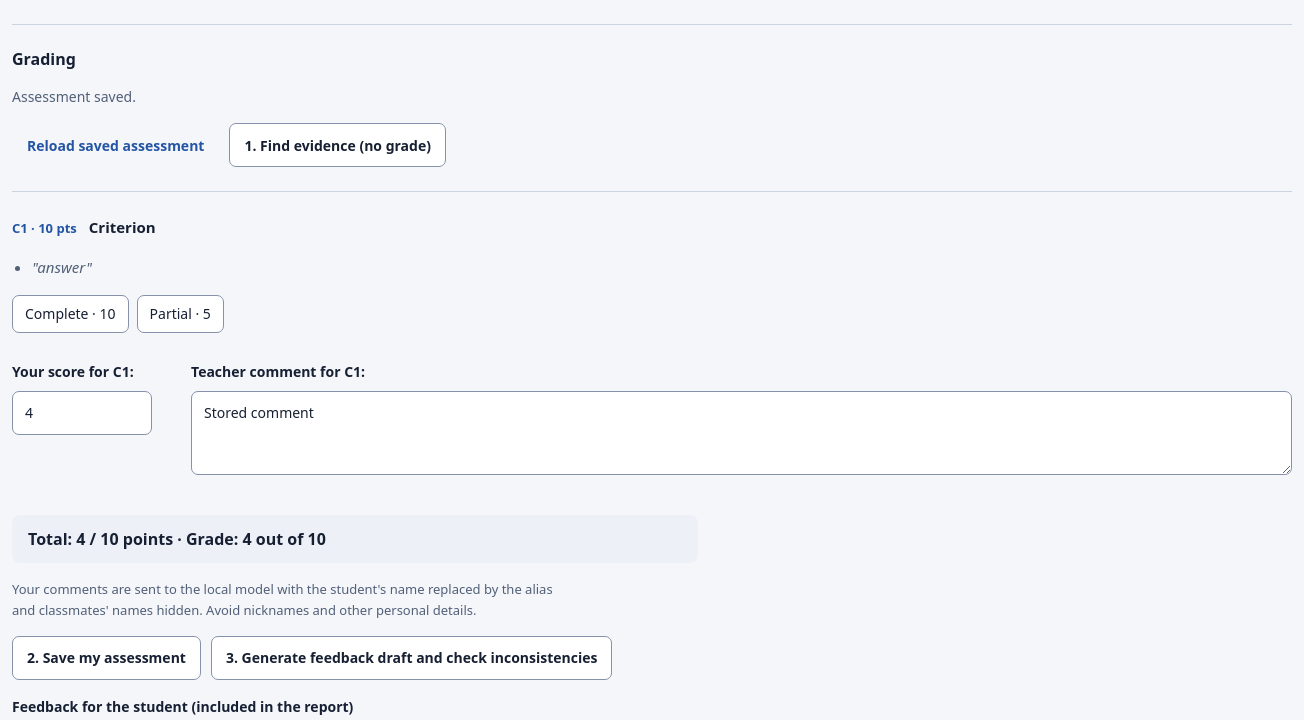
it: saved assessment › fills a score from a performance level
The width and height of the screenshot is (1304, 720).
Expected: the number field holds "4", [12,391,152,435]
Click the button "Partial · 5" at (180, 314), box [137,295,224,333]
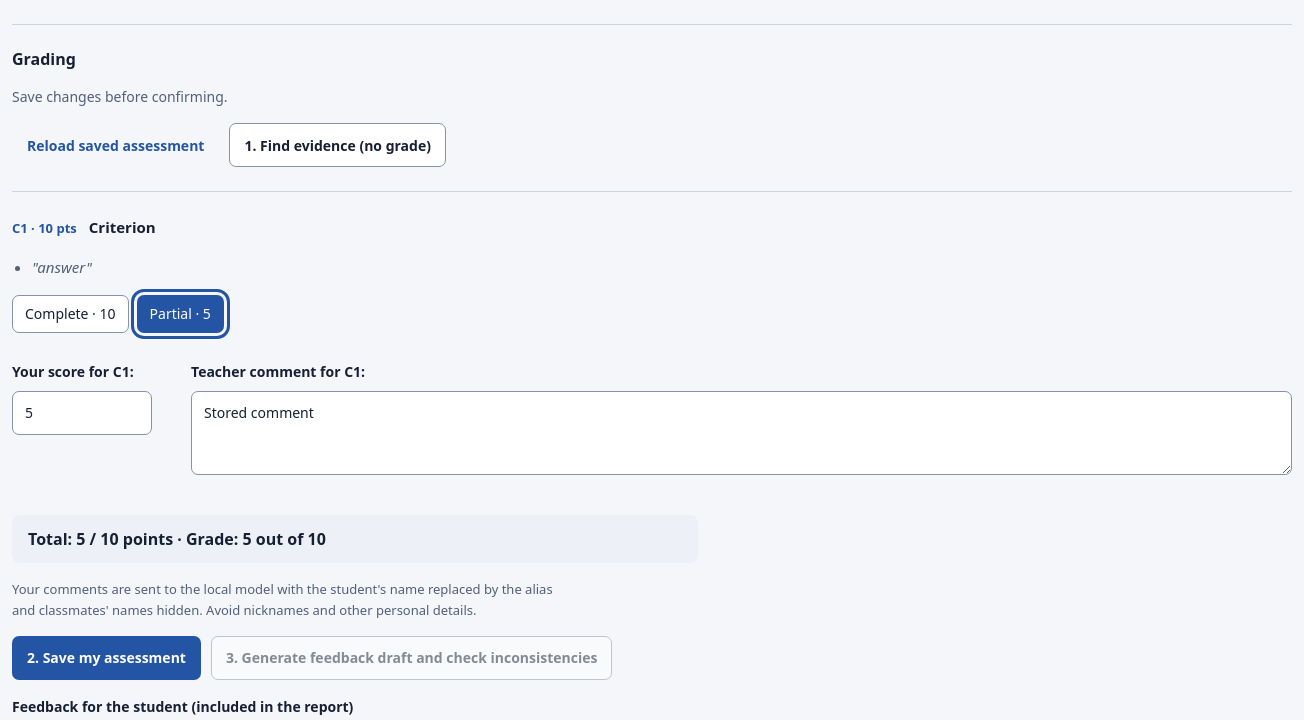
Expected: the number field holds "5", [12,391,152,435]
